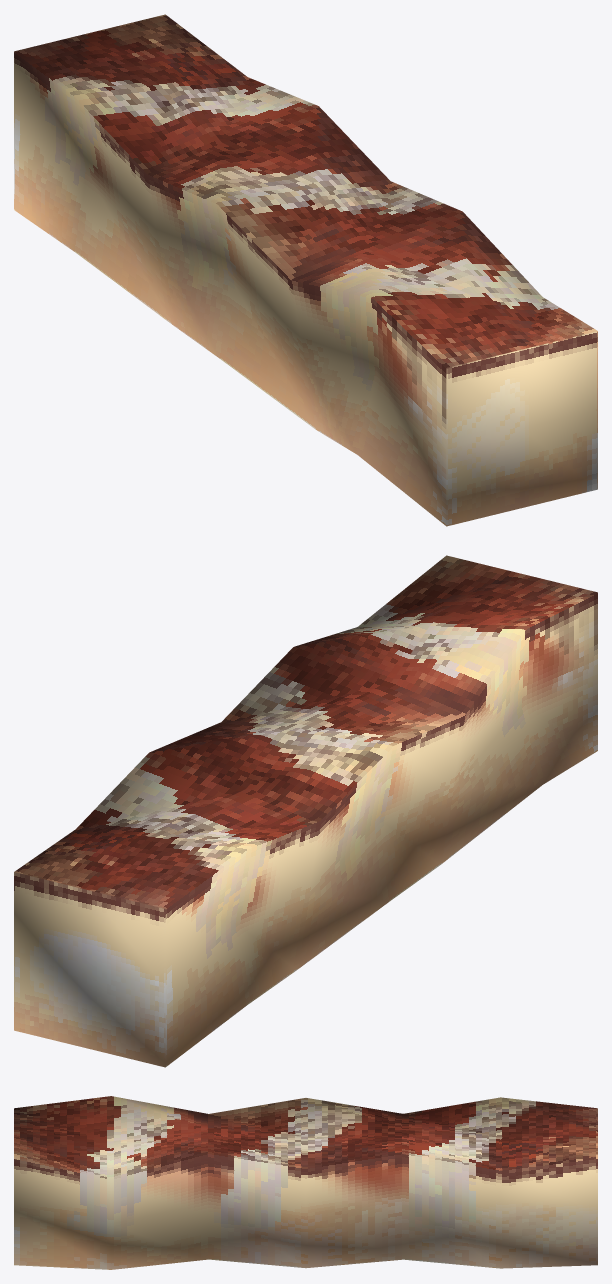
The model's file is hallu.glb.
3 renders of one model, top to bottom at view 1: azimuth 30°, elevation 25°; view 2: azimuth 150°, elevation 25°; view 3: azimuth 270°, elevation 25°, orthographic. The views are drawn at different scales.
Visible parts, largest first — view 1: Cube.002; view 2: Cube.002; view 3: Cube.002.
Boxes of the visible parts, left/top/right/bottom form: Cube.002: left=14, top=14, right=597, bottom=526; Cube.002: left=14, top=555, right=597, bottom=1067; Cube.002: left=14, top=1096, right=597, bottom=1269.
Size of what is drawn, in the model's own units: 0.4945 by 0.4945 by 2.
Materials: 1 (1 with a texture image).
